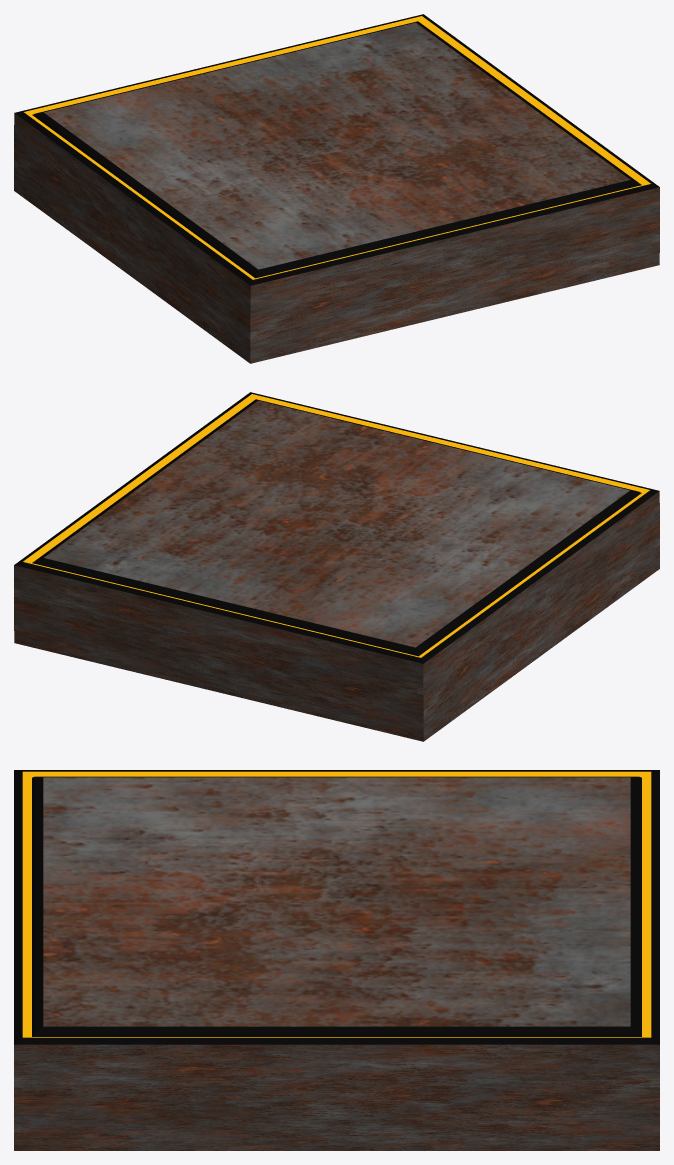
File: switch.glb
3 views of the same model, one above another, from view 1: azimuth 30°, elevation 25°; view 2: azimuth 150°, elevation 25°; view 3: azimuth 270°, elevation 25° (orthographic). The views are drawn at different scales.
Visible parts, largest first — view 1: Platform_1; view 2: Platform_1; view 3: Platform_1.
Boxes of the visible parts, x1,y1,x2,y2 form: Platform_1: (14,14,659,363); Platform_1: (14,392,659,741); Platform_1: (14,770,659,1150).
Bounding box in the file's own units: 1 × 0.2528 × 1.
Materials: 3 (1 with a texture image).
